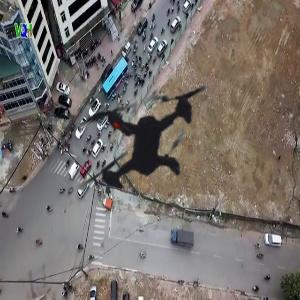drone: (30, 24, 258, 252)
